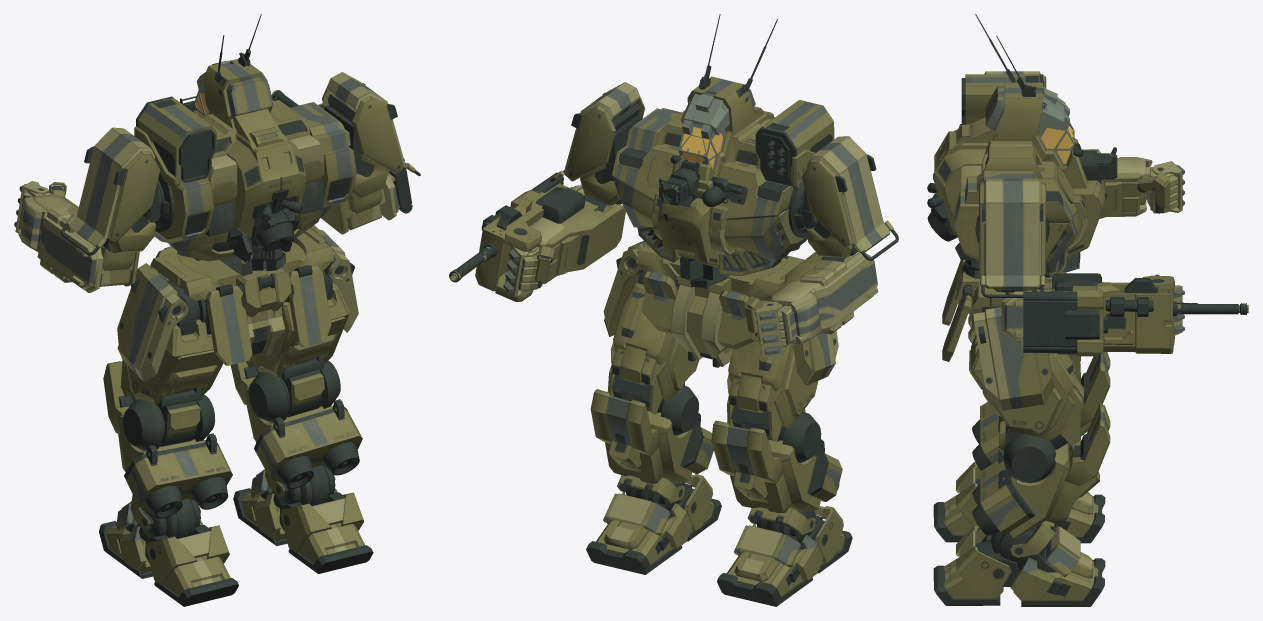
File: Wolverine.glb
3 renders of one model, left to right at view 1: azimuth 30°, elevation 25°; view 2: azimuth 150°, elevation 25°; view 3: azimuth 270°, elevation 25°, orthographic. The views are drawn at different scales.
Parts seen in each view (by area): view 1: CenterTorso_CoreAndPelvis, LeftLeg_Thigh, LeftLeg_Shin, RightLeg_Shin, LeftArm_ShoulderAndUpperarm, LeftLeg_Foot, RightLeg_Foot, RightLeg_Thigh, LeftTorso_TorsoShell, LeftArm_ForearmAndFist, RightArm_ShoulderAndUpperarm, RightTorso_TorsoShell (+3 smaller); view 2: CenterTorso_CoreAndPelvis, LeftTorso_TorsoShell, LeftLeg_Shin, LeftLeg_Foot, RightLeg_Foot, RightLeg_Shin, LeftArm_ForearmAndFist, LeftArm_ShoulderAndUpperarm, RightLeg_Thigh, LeftLeg_Thigh, RightArm_ForearmAndFist, RightArm_CannonHousing (+6 smaller); view 3: CenterTorso_CoreAndPelvis, RightArm_CannonHousing, RightLeg_Foot, RightLeg_Shin, RightLeg_Thigh, RightArm_ShoulderAndUpperarm, RightTorso_TorsoShell, LeftArm_ForearmAndFist, LeftLeg_Foot, LeftLeg_Shin, LeftTorso_Srm6Housing, RightArm_ForearmAndFist (+3 smaller).
Boxes of the visible parts, x1,y1,x2,y2 form: CenterTorso_CoreAndPelvis: (150, 14, 333, 365); LeftLeg_Thigh: (117, 263, 223, 446); LeftLeg_Shin: (103, 361, 232, 518); RightLeg_Shin: (230, 361, 362, 488); LeftArm_ShoulderAndUpperarm: (61, 127, 164, 270); LeftLeg_Foot: (99, 495, 238, 606); RightLeg_Foot: (233, 464, 373, 573); RightLeg_Thigh: (246, 225, 358, 417); LeftTorso_TorsoShell: (154, 114, 237, 261); LeftArm_ForearmAndFist: (14, 181, 139, 292); RightArm_ShoulderAndUpperarm: (322, 72, 420, 213); RightTorso_TorsoShell: (270, 100, 356, 239); CenterTorso_CoreAndPelvis: (636, 14, 804, 367); LeftTorso_TorsoShell: (702, 121, 807, 276); LeftLeg_Shin: (711, 411, 842, 513); LeftLeg_Foot: (717, 506, 852, 606); RightLeg_Foot: (586, 474, 721, 574); RightLeg_Shin: (590, 385, 713, 483); LeftArm_ForearmAndFist: (744, 252, 878, 357); LeftArm_ShoulderAndUpperarm: (785, 136, 898, 260); RightLeg_Thigh: (603, 241, 698, 414); LeftLeg_Thigh: (727, 331, 838, 441); RightArm_ForearmAndFist: (503, 184, 625, 296); RightArm_CannonHousing: (449, 172, 585, 301); CenterTorso_CoreAndPelvis: (927, 14, 1107, 361); RightArm_CannonHousing: (1023, 273, 1248, 356); RightLeg_Foot: (933, 520, 1105, 606); RightLeg_Shin: (972, 403, 1110, 539); RightLeg_Thigh: (969, 307, 1084, 453); RightArm_ShoulderAndUpperarm: (979, 178, 1046, 297); RightTorso_TorsoShell: (953, 140, 1087, 277); LeftArm_ForearmAndFist: (1067, 149, 1184, 223); LeftLeg_Foot: (933, 461, 1105, 543); LeftLeg_Shin: (972, 352, 1110, 470); LeftTorso_Srm6Housing: (961, 74, 1044, 124); RightArm_ForearmAndFist: (1001, 274, 1184, 340).
Size of the model in its own units: 1.66 by 2.5 by 1.37.
4 materials, 2 textured.
